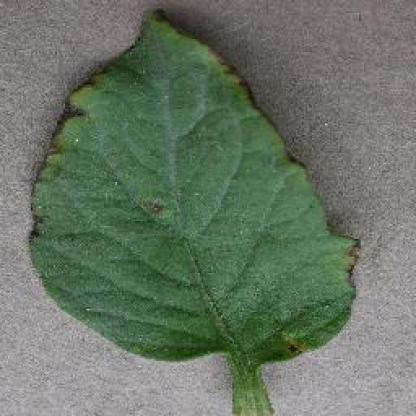bad leaf: (23, 14, 360, 404)
